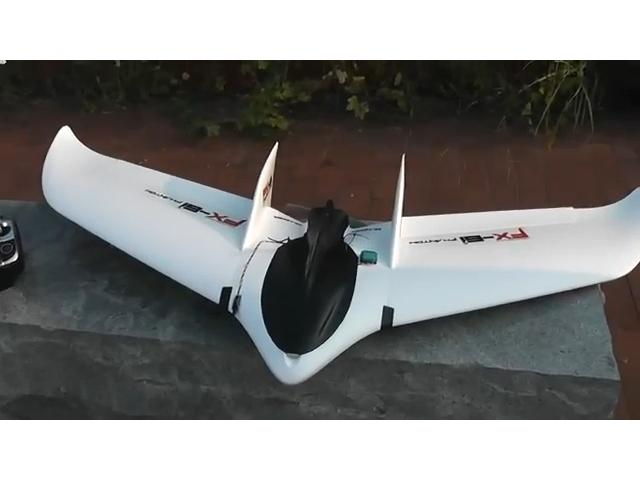Anti-Drone: (20, 112, 640, 402)
